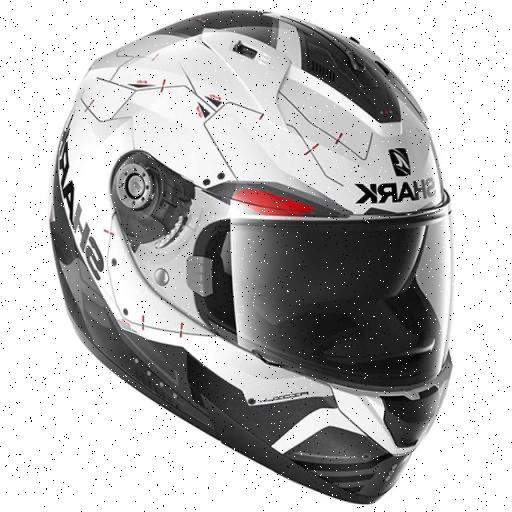Helmet: (51, 14, 455, 496)
